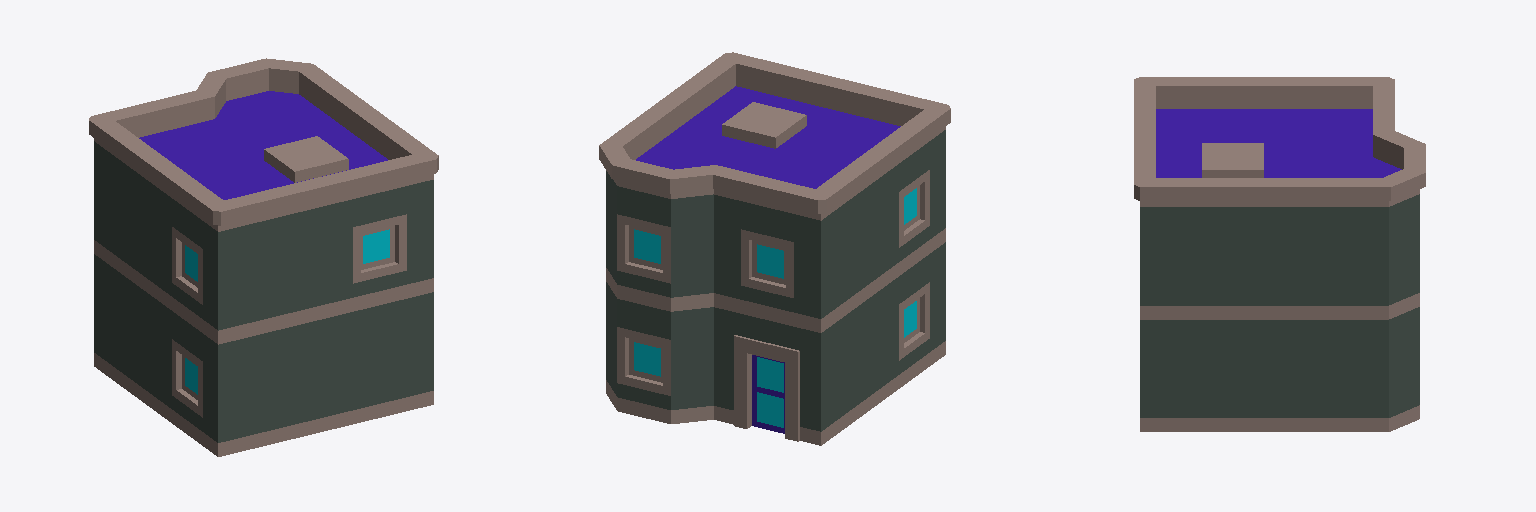
Rendered from small_buildingB_CyPk_Emissions_v2.obj.
3 renders of one model, left to right at view 1: azimuth 30°, elevation 25°; view 2: azimuth 150°, elevation 25°; view 3: azimuth 270°, elevation 25°, orthographic.
Visible parts, largest first — view 1: small_buildingB_CyPk_Emissions; view 2: small_buildingB_CyPk_Emissions; view 3: small_buildingB_CyPk_Emissions.
Boxes of the visible parts, <box> form: small_buildingB_CyPk_Emissions: <box>89,58,438,456</box>; small_buildingB_CyPk_Emissions: <box>599,52,950,445</box>; small_buildingB_CyPk_Emissions: <box>1134,77,1425,431</box>.
Bounding box in the file's own units: 0.84 × 0.88 × 0.94.